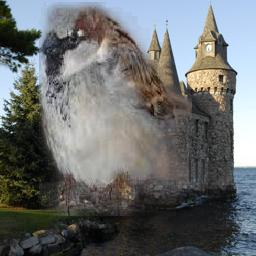Sparrow: (40, 2, 193, 216)
